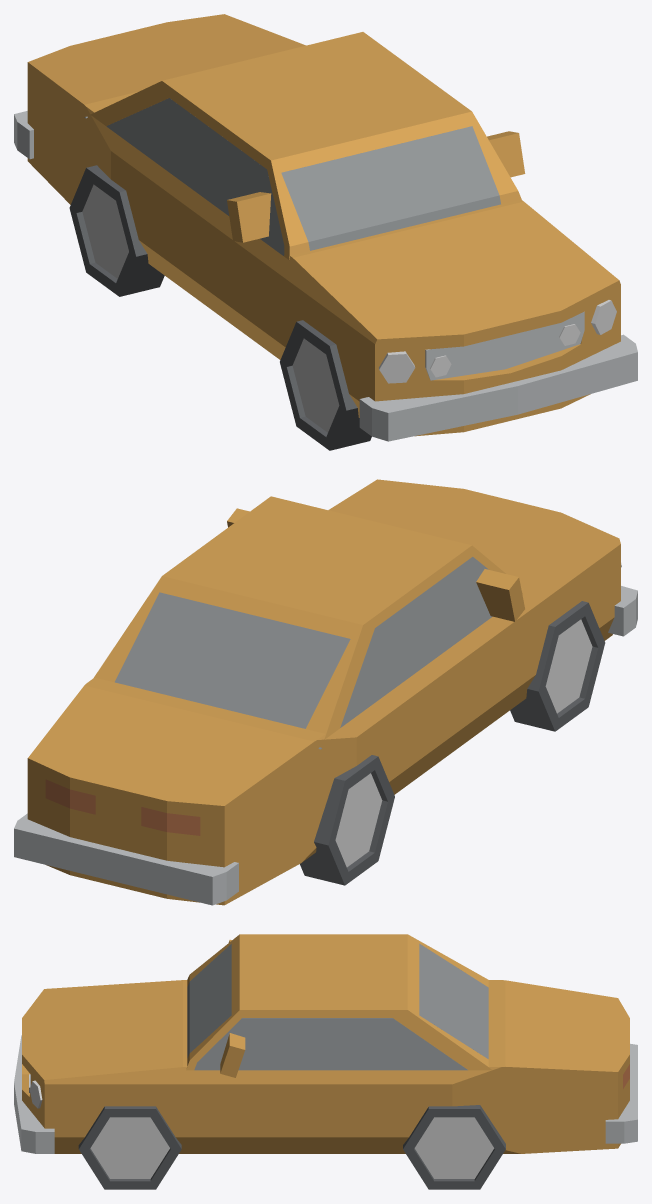
File: Car.glb
3 views of the same model, one above another, from view 1: azimuth 30°, elevation 25°; view 2: azimuth 150°, elevation 25°; view 3: azimuth 270°, elevation 25° (orthographic). The views are drawn at different scales.
Visible parts, largest first — view 1: Mesh_Mesh_head_geo.001_lambert2SG.001; view 2: Mesh_Mesh_head_geo.001_lambert2SG.001; view 3: Mesh_Mesh_head_geo.001_lambert2SG.001.
Part boxes in pixels (x1,y1,x2,y2): Mesh_Mesh_head_geo.001_lambert2SG.001: (14,14,637,450); Mesh_Mesh_head_geo.001_lambert2SG.001: (14,479,637,905); Mesh_Mesh_head_geo.001_lambert2SG.001: (14,934,637,1189).
Bounding box in the file's own units: 62 × 46 × 154.
